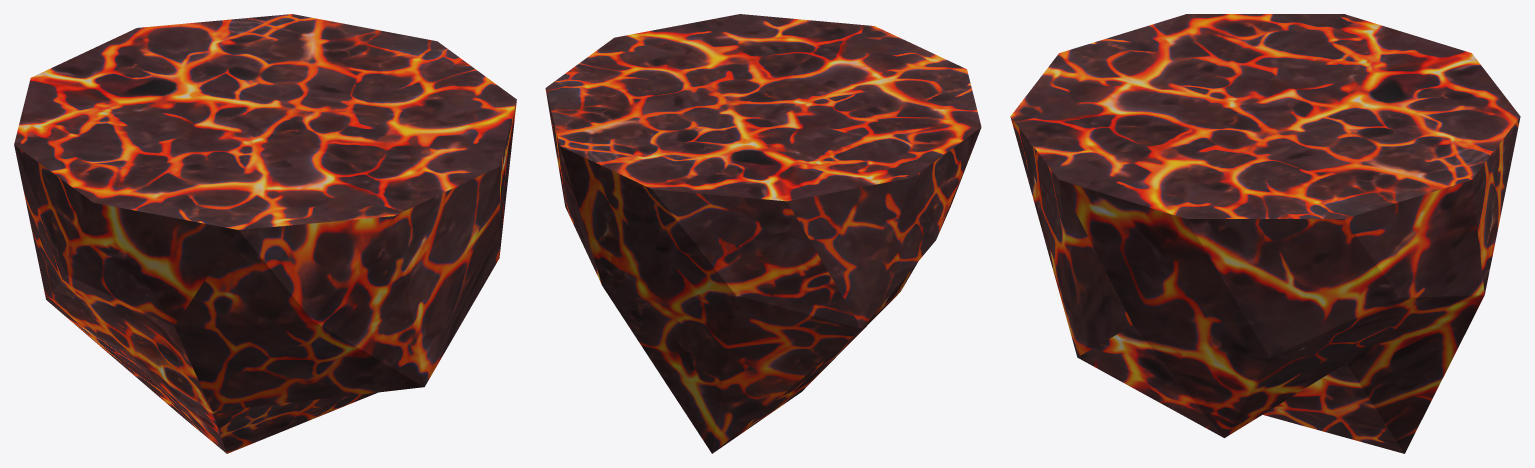
The model's file is lava_island.fbx.
3 renders of one model, left to right at view 1: azimuth 30°, elevation 25°; view 2: azimuth 150°, elevation 25°; view 3: azimuth 270°, elevation 25°, orthographic. The views are drawn at different scales.
Visible parts, largest first — view 1: Icosphere; view 2: Icosphere; view 3: Icosphere.
Part boxes in pixels (<box>): Icosphere: <box>14,14,516,453</box>; Icosphere: <box>545,14,981,453</box>; Icosphere: <box>1010,14,1520,453</box>.
Bounding box in the file's own units: 680 × 530 × 715.
Materials: 1 (1 with a texture image).
